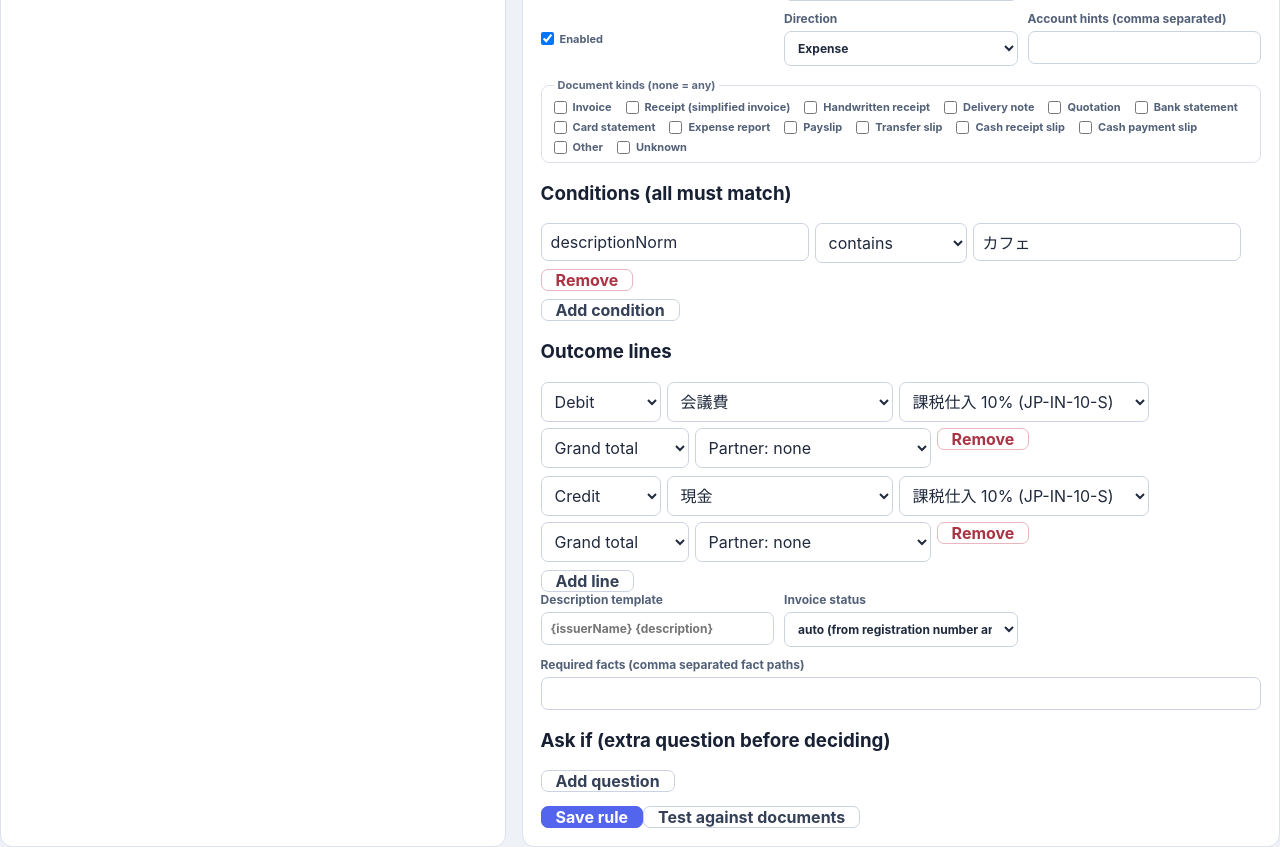
Test case: RulesTab › 異常: 文書を選ばずにテストを実行したら、先に選ぶよう促す
The image size is (1280, 847).
(page scrolled)
Click the button "Test against documents" at x=752, y=817, box x1=643 y1=806 x2=860 y2=828
(page scrolled)
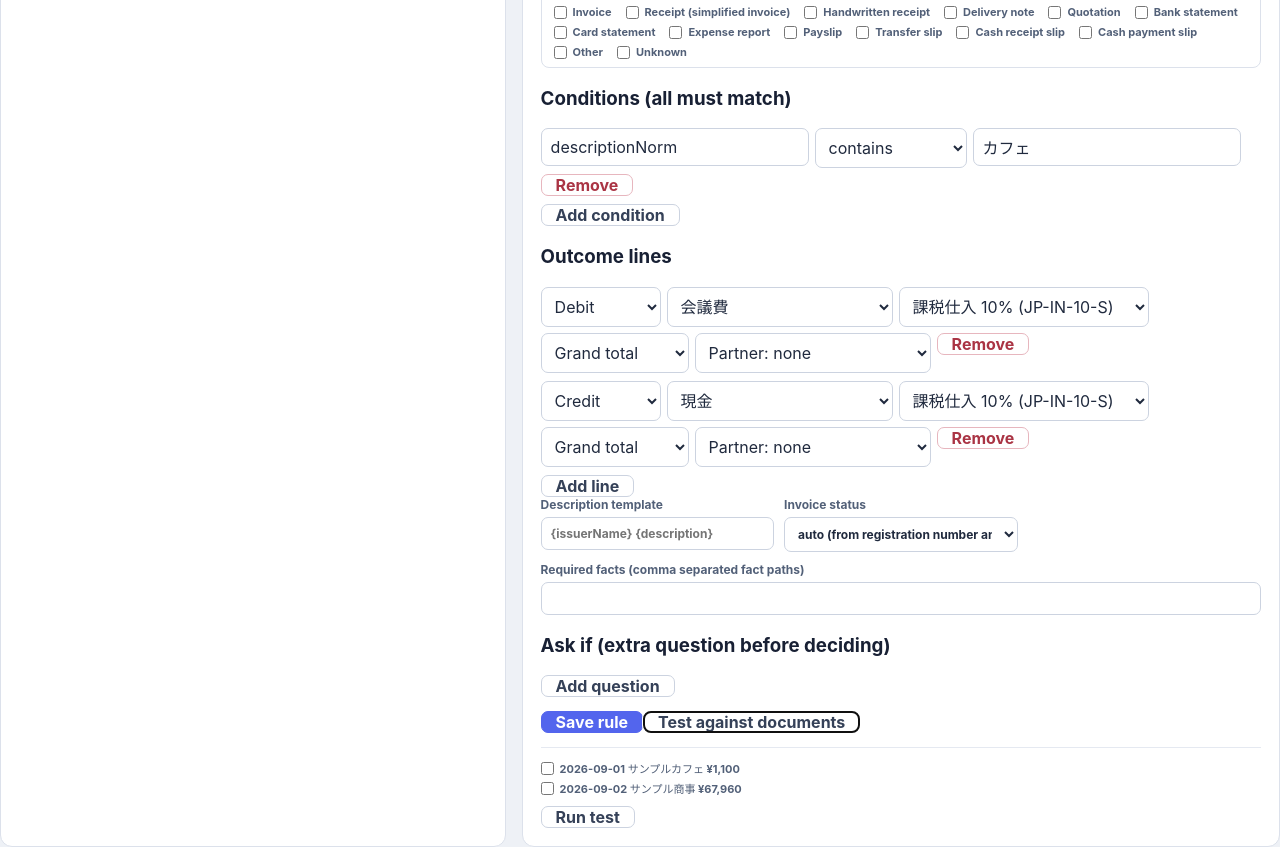
Click the button "Run test" at x=588, y=817, box x1=541 y1=806 x2=635 y2=828
(page scrolled)
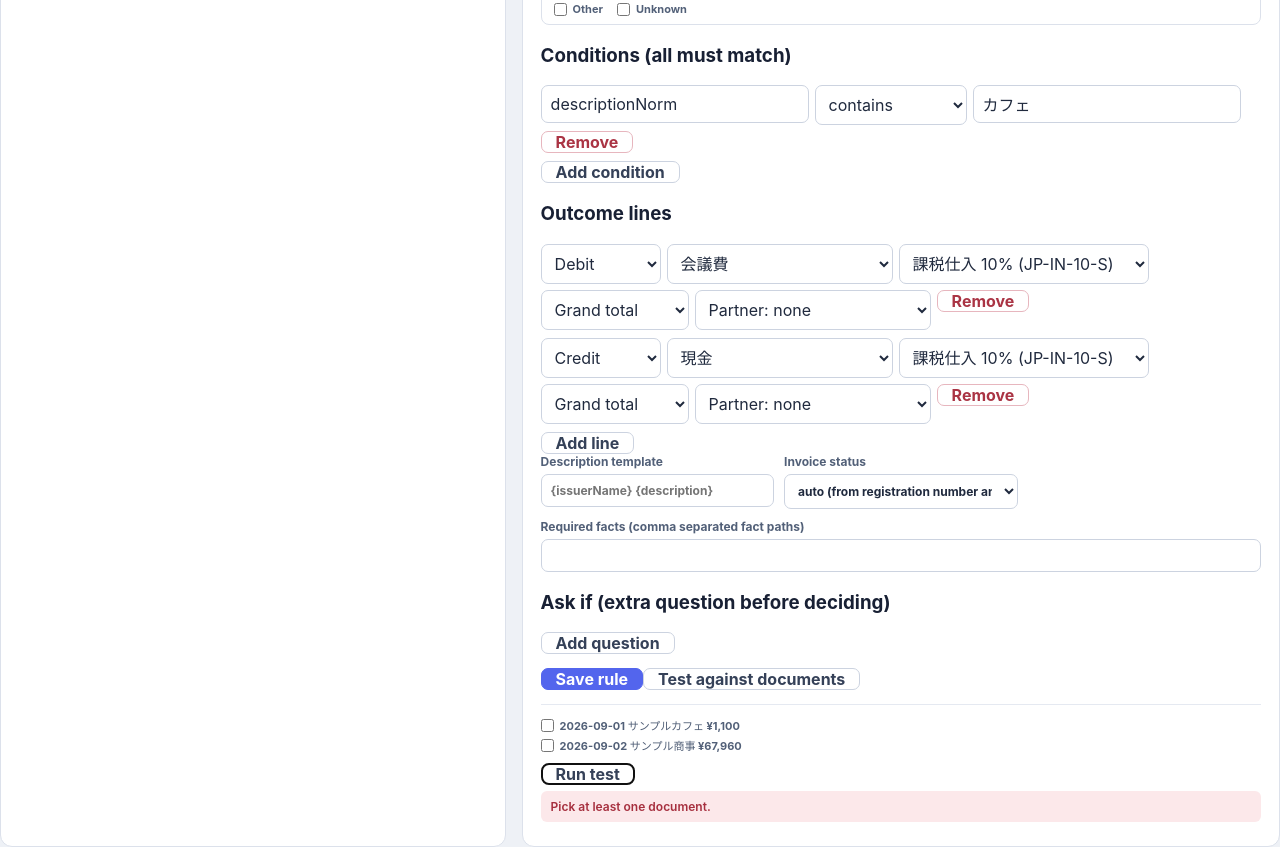
Expected: the text "Pick at least one document." is shown, x1=541 y1=791 x2=1261 y2=822
